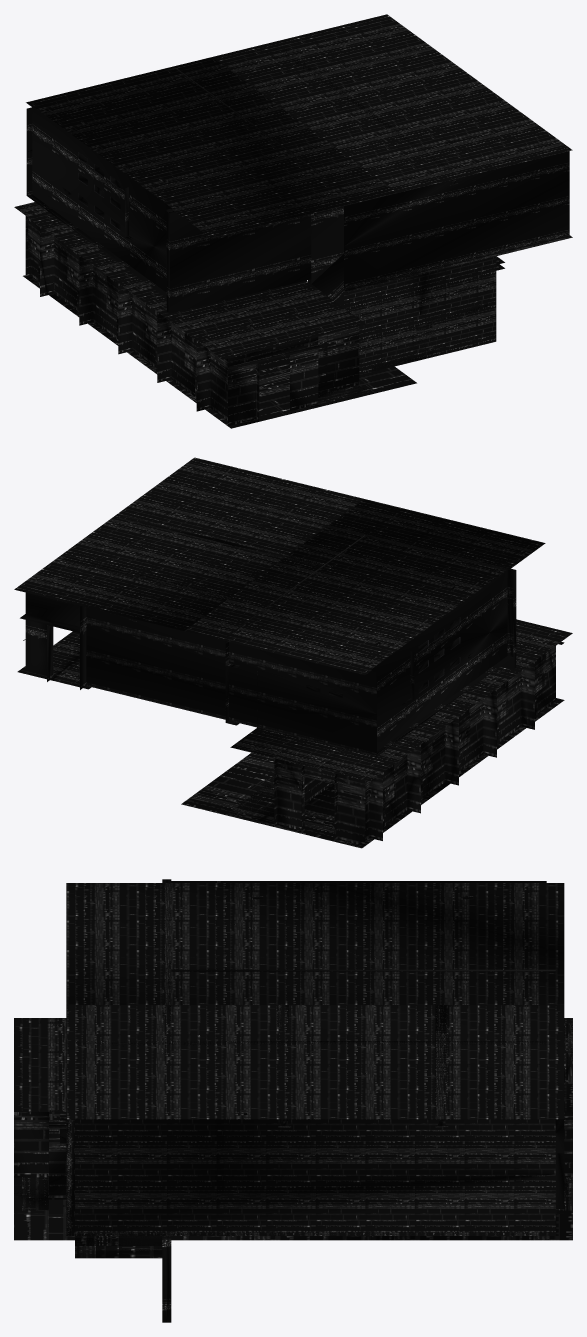
File: room2sl_opt.obj
3 views of the same model, one above another, from view 1: azimuth 30°, elevation 25°; view 2: azimuth 150°, elevation 25°; view 3: azimuth 270°, elevation 25° (orthographic). The views are drawn at different scales.
Bounding box in the file's own units: 105 × 51.2 × 102.
23 materials, 23 textured.
